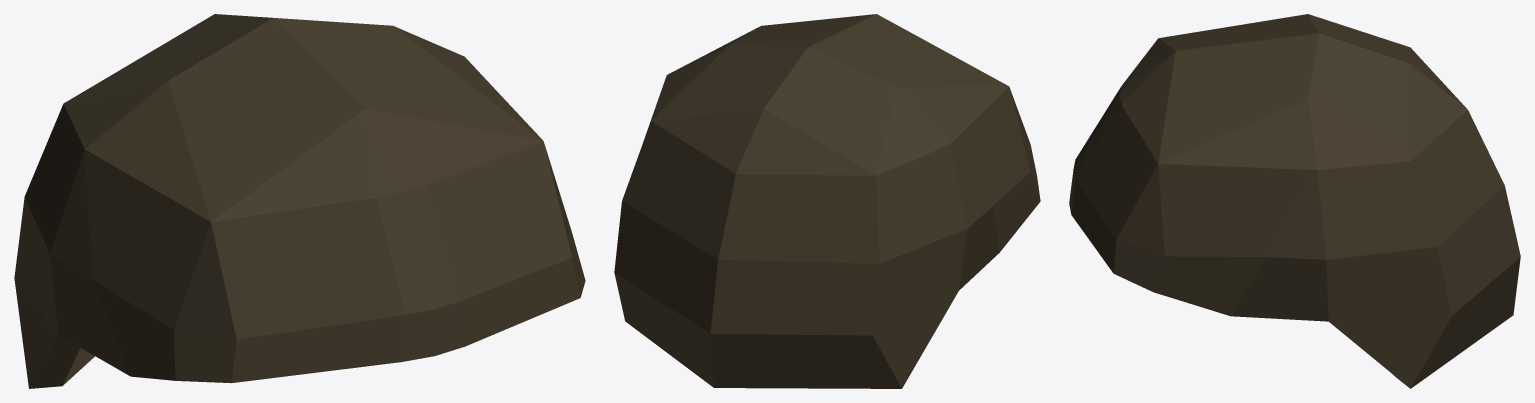
Rendered from quaternius-posed-background-characters-male-hairstyle-4.glb.
3 renders of one model, left to right at view 1: azimuth 30°, elevation 25°; view 2: azimuth 150°, elevation 25°; view 3: azimuth 270°, elevation 25°, orthographic. The views are drawn at different scales.
Parts seen in each view (by area): view 1: Male_Hairstyle_4; view 2: Male_Hairstyle_4; view 3: Male_Hairstyle_4.
Part boxes in pixels (x1,y1,x2,y2): Male_Hairstyle_4: [14, 14, 585, 388]; Male_Hairstyle_4: [614, 14, 1040, 388]; Male_Hairstyle_4: [1069, 14, 1520, 388].
Size of the model in its own units: 0.5046 by 0.4064 by 0.5824.
